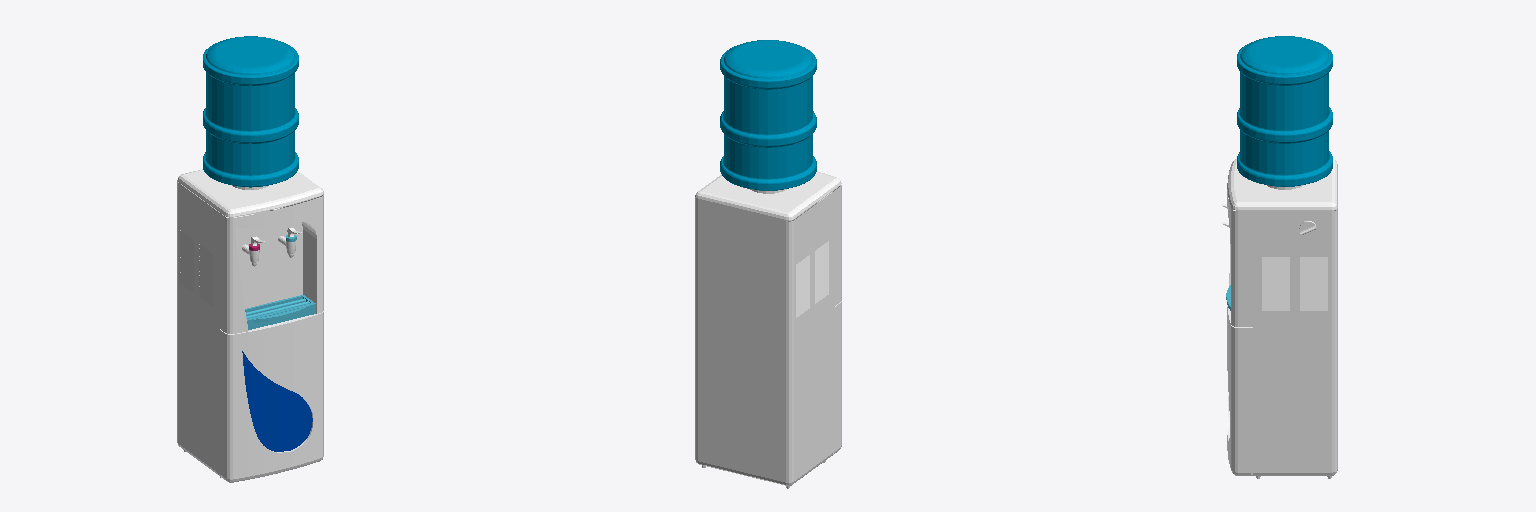
Rendered from watermachine.obj.
The picture shows the model from 3 angles: view 1: azimuth 30°, elevation 25°; view 2: azimuth 150°, elevation 25°; view 3: azimuth 270°, elevation 25°; orthographic projection.
Visible parts, largest first — view 1: Line07; view 2: Line07; view 3: Line07.
Part boxes in pixels (x1,y1,x2,y2): Line07: (177,36,323,482); Line07: (695,40,841,488); Line07: (1222,36,1337,478).
Size of the model in its own units: 0.4956 by 1.84 by 0.4745.